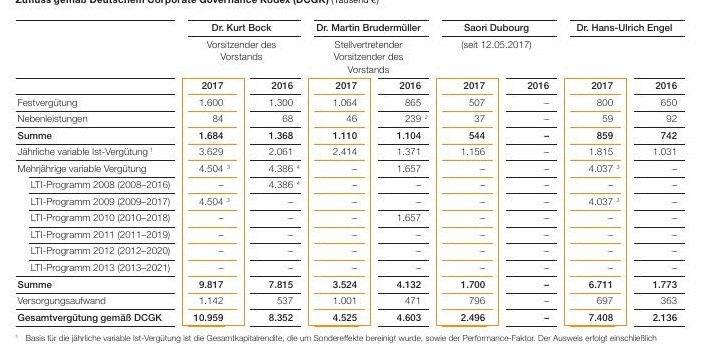table: (0, 0, 707, 344)
